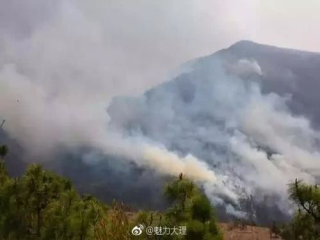smoke: (111, 127, 230, 192)
